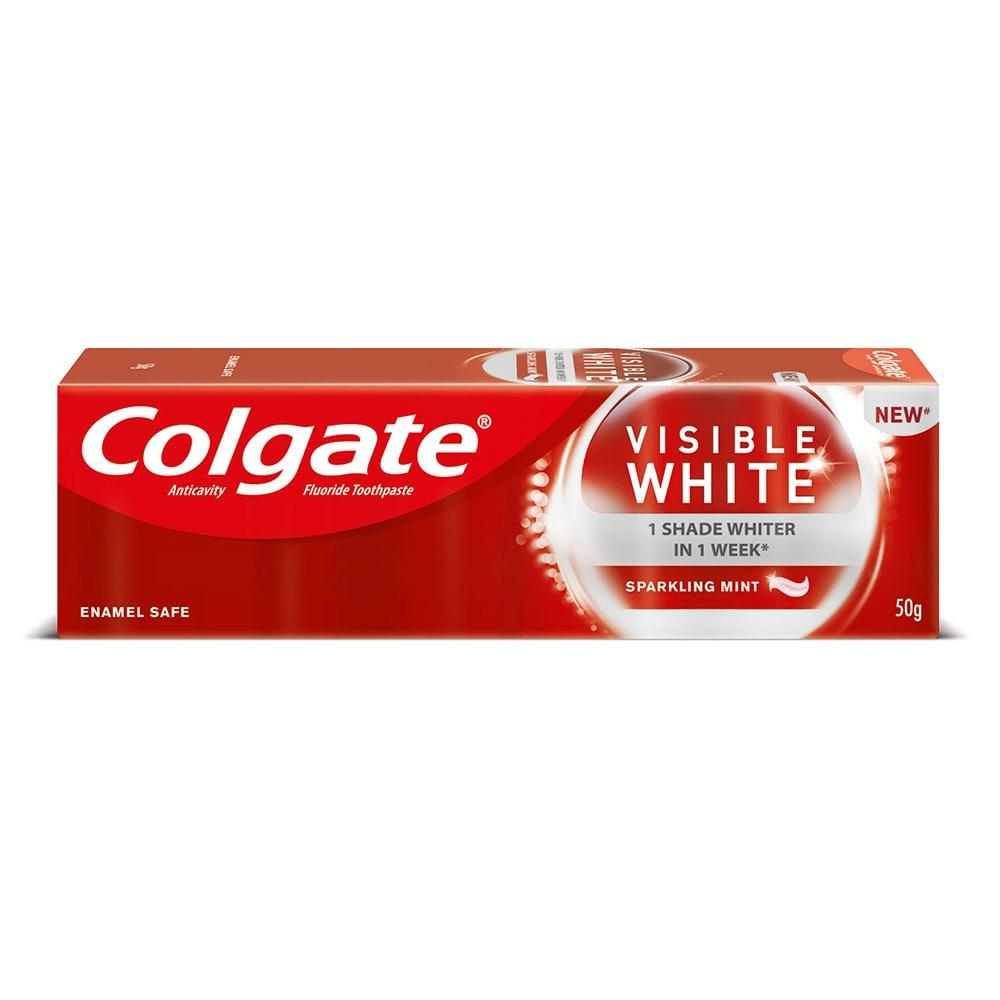Colgate: (57, 345, 943, 644)
